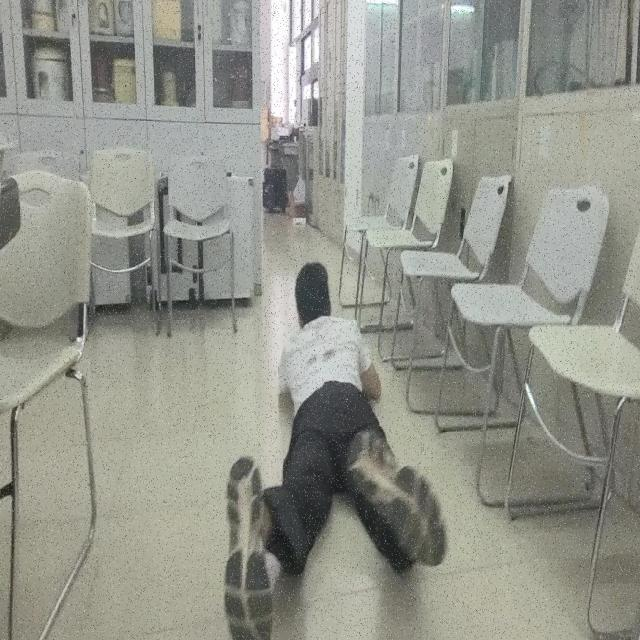fall: (220, 258, 448, 640)
